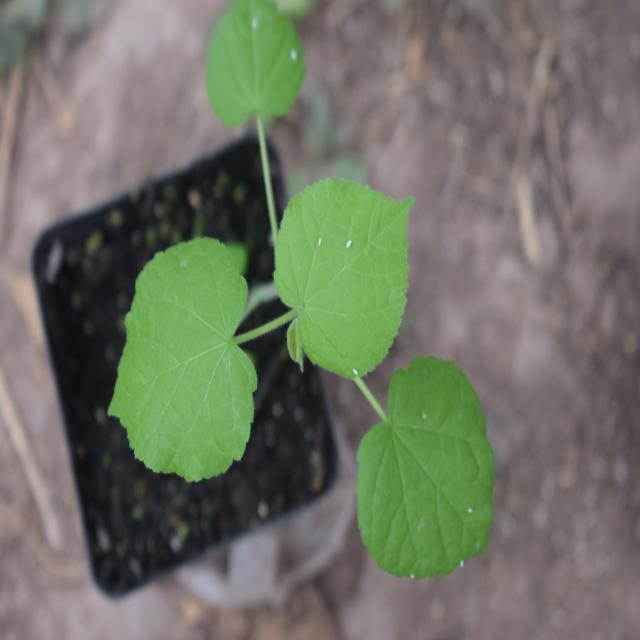abutilon theophrasti: (110, 6, 480, 577)
